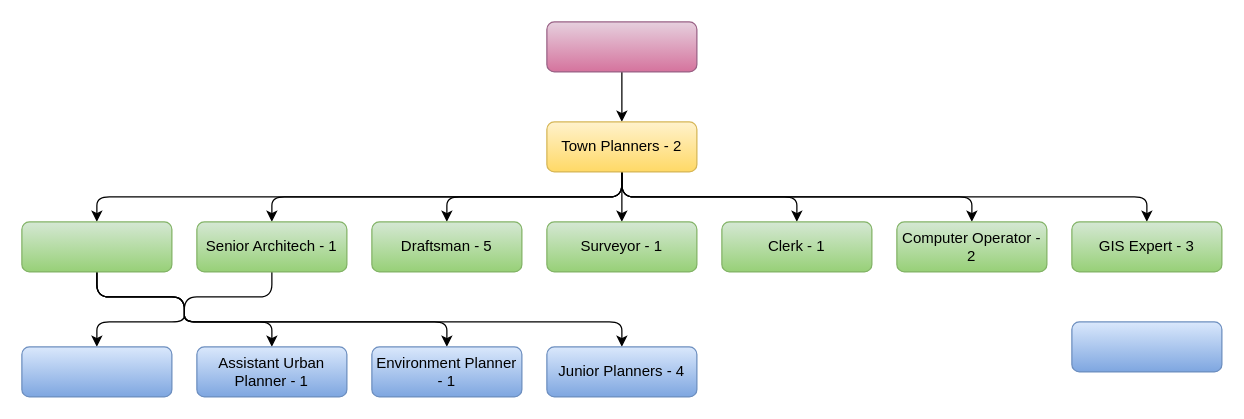
This 1244x419 diagram has some shape labels left out. Each missing label, with the centre of its shape:
"Assistant Town Planners - 2" goes at point 96,371.
"GIS Analyst - 9" goes at point 1146,346.
"Metropolitan Planner" goes at point 621,46.
"Senior Planner - 1" goes at point 96,246.
